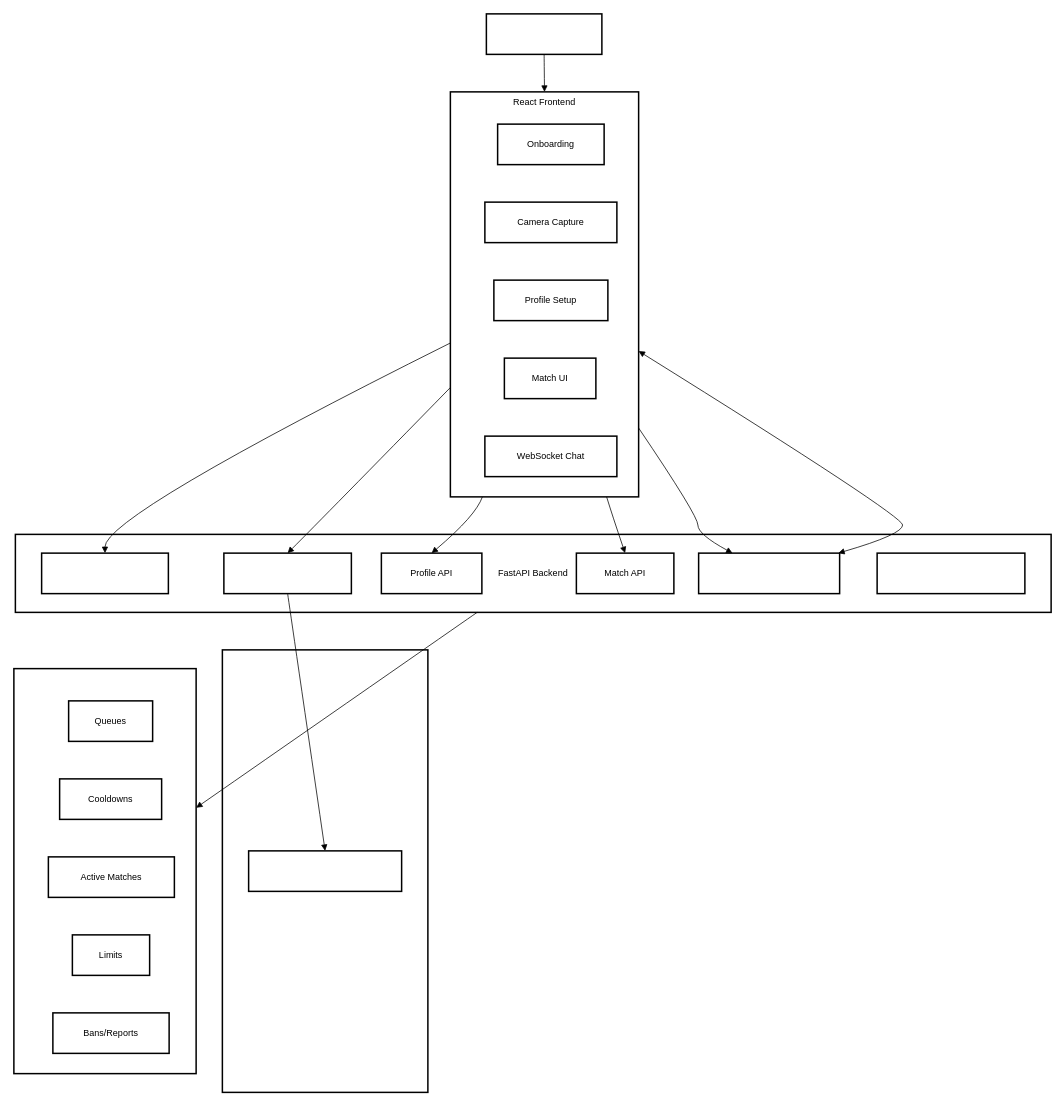
Some shapes in this 1064 by 1106 pixel diagram are drawn without their labels. Each missing label, with the box of its shape:
Local Lightweight AI: (248, 850, 402, 892)
Moderation Service: (876, 552, 1025, 594)
Onboarding API: (40, 552, 169, 594)
Redis Cloud: (13, 668, 196, 1074)
User Browser: (485, 13, 602, 55)
Verification API: (223, 552, 352, 594)
WebSocket Server: (698, 552, 840, 594)
